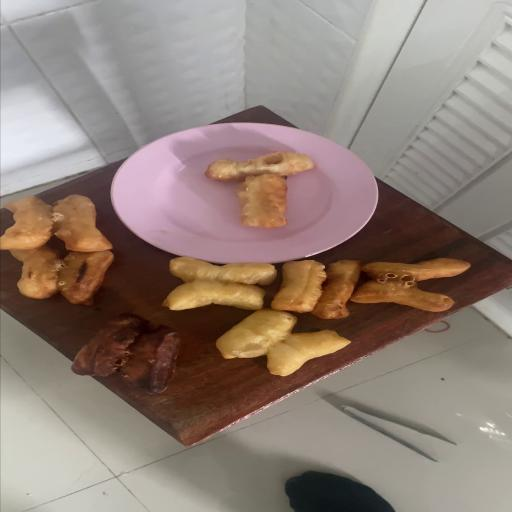street_burnt_defect: (73, 316, 180, 394), (5, 248, 114, 302)
